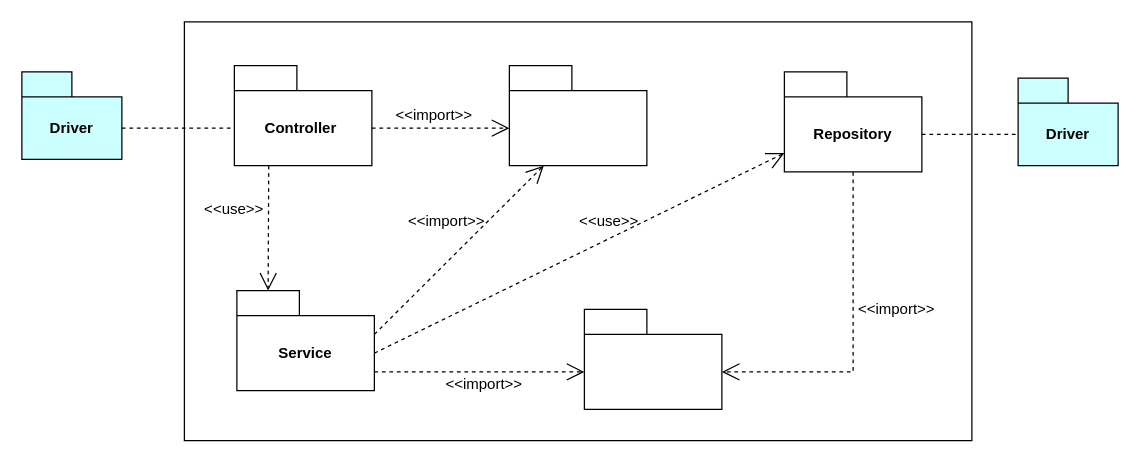
Some shapes in this 1140 by 463 pixel diagram are drawn without their labels. Each missing label, with the box of its shape:
DTO: (508, 64, 647, 166)
Model: (583, 308, 722, 409)
